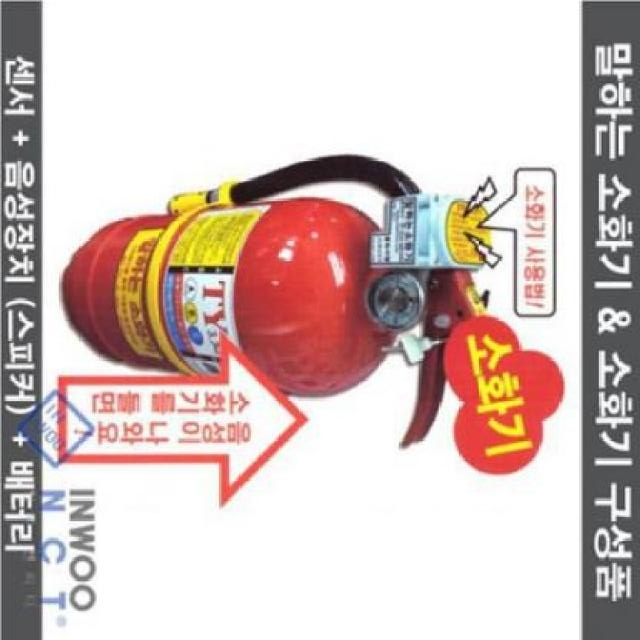fire extinguisher: (60, 152, 492, 451)
